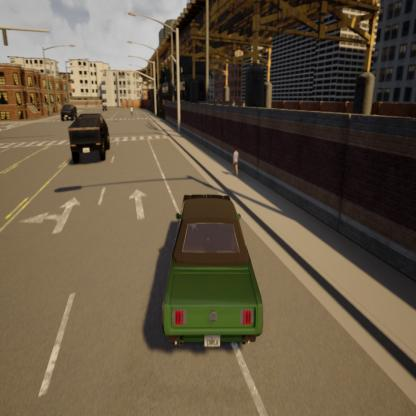Cars: (147, 181, 271, 368), (63, 111, 114, 168), (56, 98, 79, 122), (102, 101, 108, 112)
Pedestrian: (228, 142, 243, 181)
